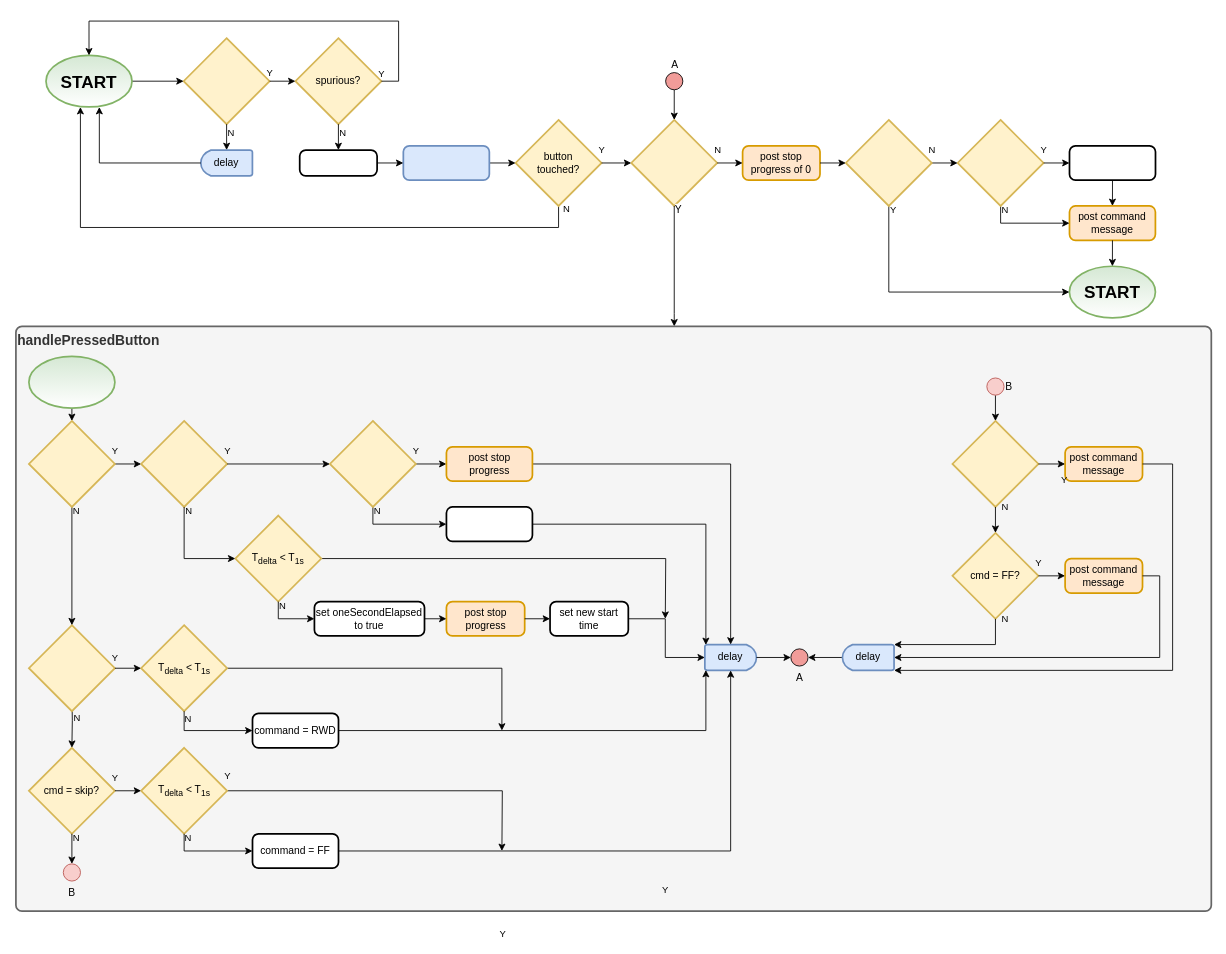
This 1226x954 diagram has some shape labels left out. Each missing label, with the centre of its shape:
"checkForPress" belongs at (x=446, y=162).
"cmd = FF or RWD?" belongs at (x=1000, y=162).
"cmd = PLAY" belongs at (x=1112, y=162).
"cmd = play?" belongs at (x=71, y=463).
"cmd = restart?" belongs at (x=71, y=668).
"cmd = RWD?" belongs at (x=995, y=463).
"command = stop" belongs at (x=489, y=524).
"map to screen" belongs at (x=338, y=162).
"METHOD START" belongs at (x=71, y=381).
"oneSecondElapsed = true?" belongs at (x=184, y=463).
"pressed > 1 sec and sendStop = false?" belongs at (x=888, y=162).
"pressed?" belongs at (x=674, y=162).
"T delta < T 2s" belongs at (x=372, y=463).
"touched?" belongs at (x=226, y=81).
